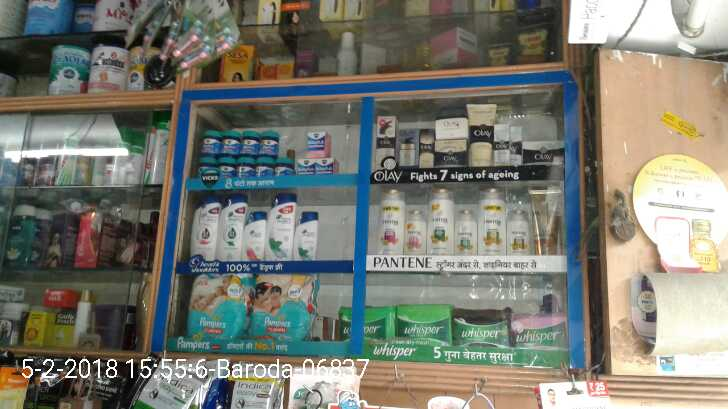beauty: (265, 192, 298, 264), (529, 188, 563, 255), (421, 185, 452, 258), (479, 183, 506, 256), (465, 103, 495, 162), (218, 196, 244, 264), (192, 200, 222, 257), (373, 116, 400, 172), (380, 186, 402, 254), (399, 202, 425, 255), (451, 205, 477, 257), (297, 210, 324, 259), (241, 213, 266, 259), (394, 128, 419, 167), (435, 138, 466, 167), (417, 131, 436, 168), (436, 118, 466, 136)
pharmacy: (254, 266, 319, 344), (186, 274, 250, 336), (450, 305, 507, 347), (395, 307, 450, 344), (507, 311, 562, 347), (256, 126, 282, 159), (303, 133, 333, 159), (198, 128, 222, 155), (240, 125, 258, 156), (296, 161, 334, 175), (222, 130, 240, 158), (273, 156, 295, 178), (236, 154, 256, 176), (216, 158, 236, 179), (194, 156, 213, 178), (252, 157, 270, 180)
